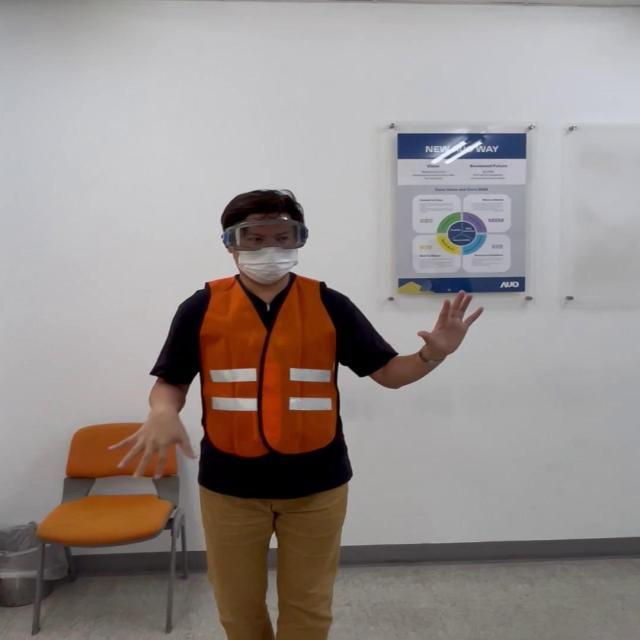bare_hand: (108, 404, 199, 480), (415, 285, 483, 361)
